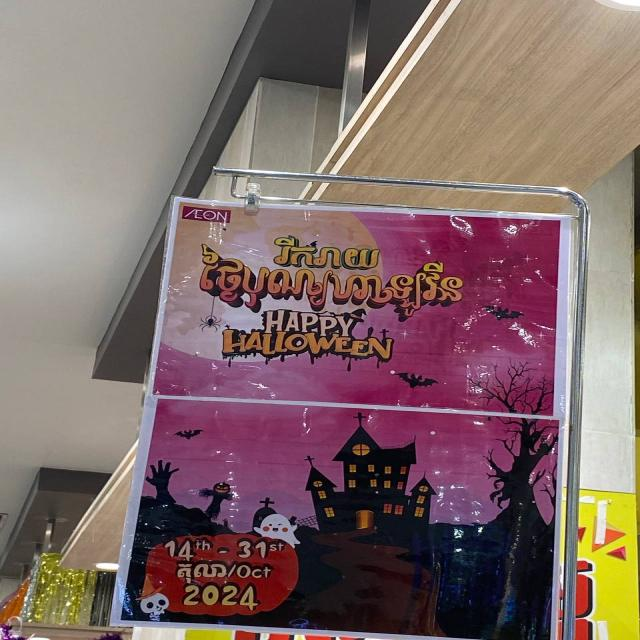583: (164, 536, 201, 561)
63: (217, 538, 273, 562)
650: (179, 584, 263, 612)
Yolov11kh: (197, 242, 464, 320), (267, 231, 387, 272), (171, 561, 231, 583)
